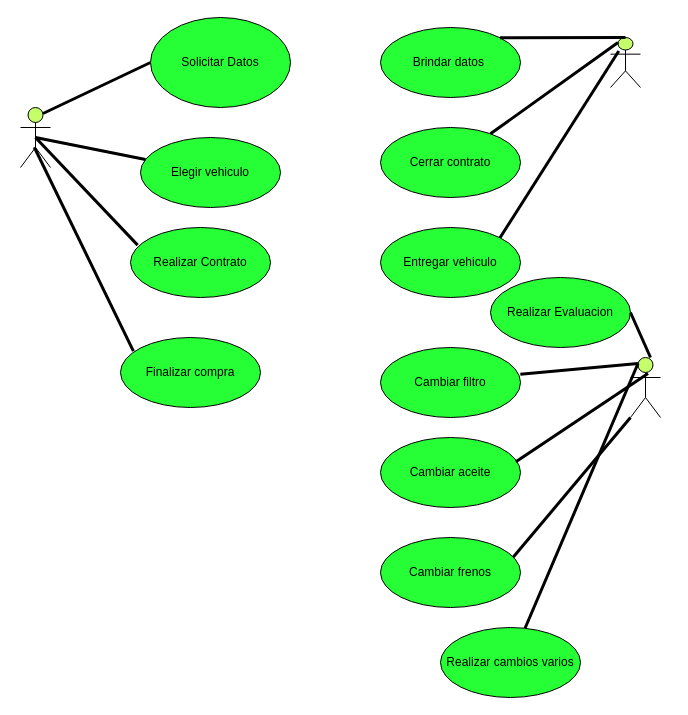
Image size: 688x715. Some labels were removed from this diagram. The shapes that lost their labels are listed below. From the top down, each one's centre as x and y in pixels, then its label:
At pixel 625 62: "Vendedor".
At pixel 35 137: "Cliente".
At pixel 645 387: "Mecanico".
